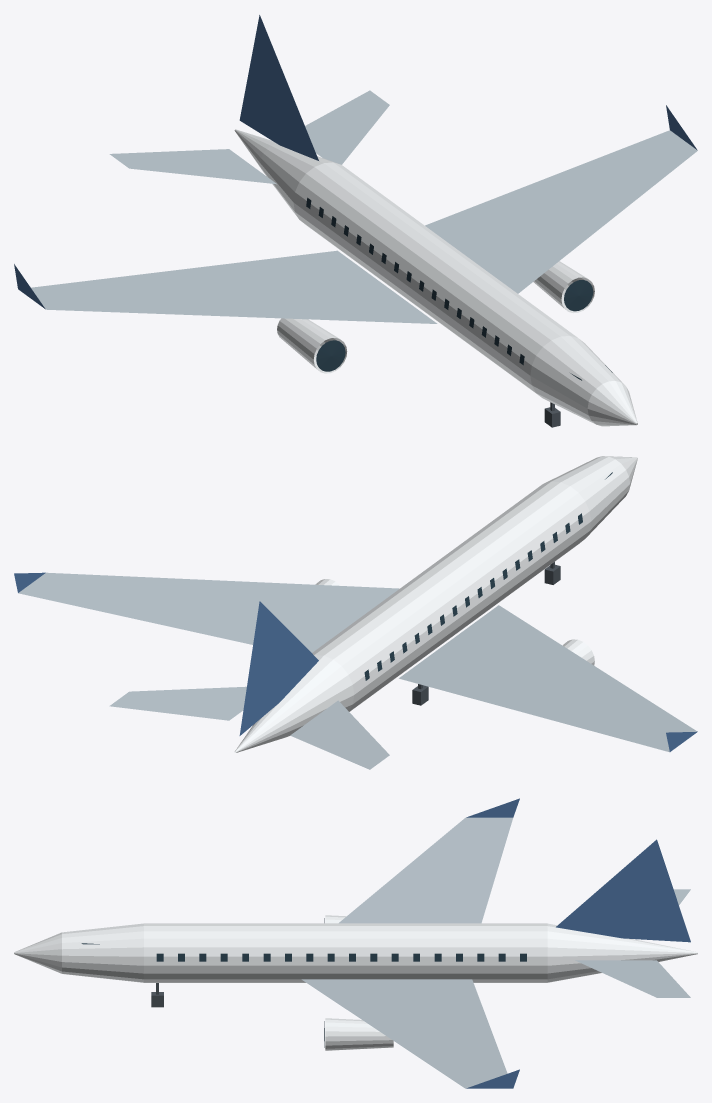
Rendered from a330-JBU.gltf.
The picture shows the model from 3 angles, top to bottom: view 1: azimuth 30°, elevation 25°; view 2: azimuth 150°, elevation 25°; view 3: azimuth 270°, elevation 25°; orthographic projection. The views are drawn at different scales.
Visible parts, largest first — view 1: object 1; view 2: object 1, Gear; view 3: object 1.
Boxes of the visible parts, left/top/right/bottom form: object 1: left=14, top=15, right=697, bottom=426; object 1: left=14, top=456, right=697, bottom=769; Gear: left=412, top=562, right=560, bottom=705; object 1: left=14, top=798, right=697, bottom=1088.
Bounding box in the file's own units: 60 × 17.16 × 64.
